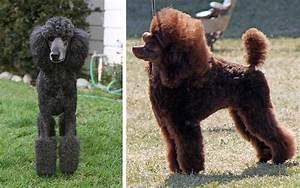dog: (131, 5, 297, 176), (23, 21, 104, 186)
